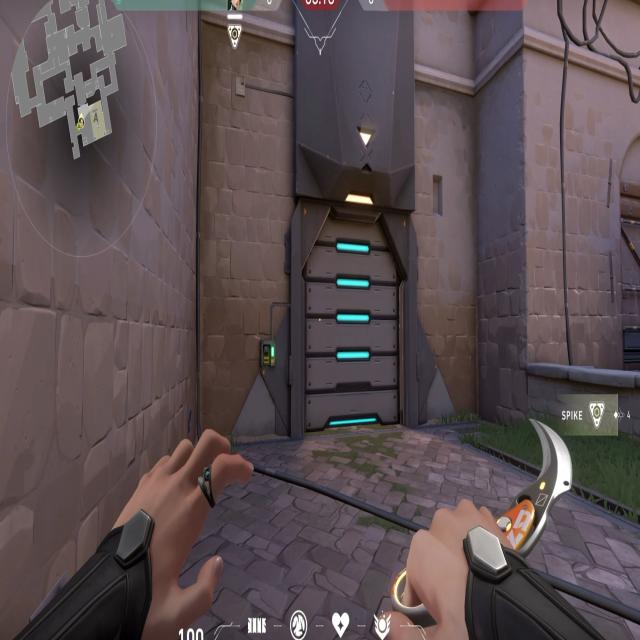A_Door: (286, 180, 416, 442)
